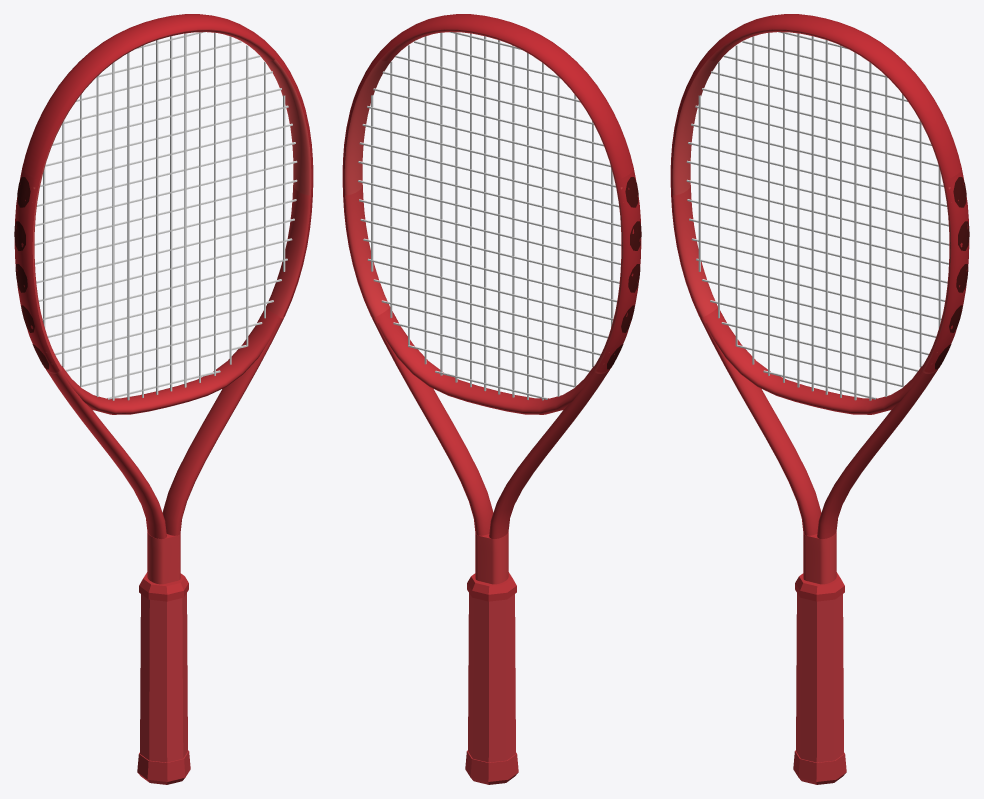
The model's file is prince-o3-ripstick-26-junior.glb.
The picture shows the model from 3 angles, left to right: view 1: azimuth 30°, elevation 25°; view 2: azimuth 150°, elevation 25°; view 3: azimuth 330°, elevation 25°; orthographic projection.
Parts seen in each view (by area): view 1: frame, strings_mains, strings_crosses, grip, bumper, grommets, butt_cap, collar; view 2: frame, strings_mains, strings_crosses, grip, bumper, grommets, butt_cap, collar; view 3: frame, strings_mains, strings_crosses, grip, bumper, grommets, butt_cap, collar.
Part boxes in pixels (bbox=[...]): frame: bbox=[32, 29, 311, 584]; strings_mains: bbox=[43, 32, 285, 400]; strings_crosses: bbox=[34, 32, 297, 399]; grip: bbox=[140, 593, 187, 762]; bumper: bbox=[22, 14, 305, 179]; grommets: bbox=[14, 112, 313, 372]; butt_cap: bbox=[137, 750, 190, 784]; collar: bbox=[139, 572, 188, 601]; frame: bbox=[344, 29, 623, 584]; strings_mains: bbox=[371, 32, 613, 400]; strings_crosses: bbox=[358, 32, 621, 399]; grip: bbox=[468, 593, 515, 762]; bumper: bbox=[350, 14, 633, 179]; grommets: bbox=[342, 112, 641, 372]; butt_cap: bbox=[465, 750, 518, 784]; collar: bbox=[467, 572, 516, 601]; frame: bbox=[672, 29, 951, 584]; strings_mains: bbox=[698, 32, 940, 400]; strings_crosses: bbox=[686, 32, 949, 399]; grip: bbox=[796, 593, 843, 762]; bumper: bbox=[678, 14, 961, 179]; grommets: bbox=[670, 112, 969, 372]; butt_cap: bbox=[793, 750, 846, 784]; collar: bbox=[795, 572, 844, 601].
Bounding box in the file's own units: 0.2671 × 0.6607 × 0.0396.
